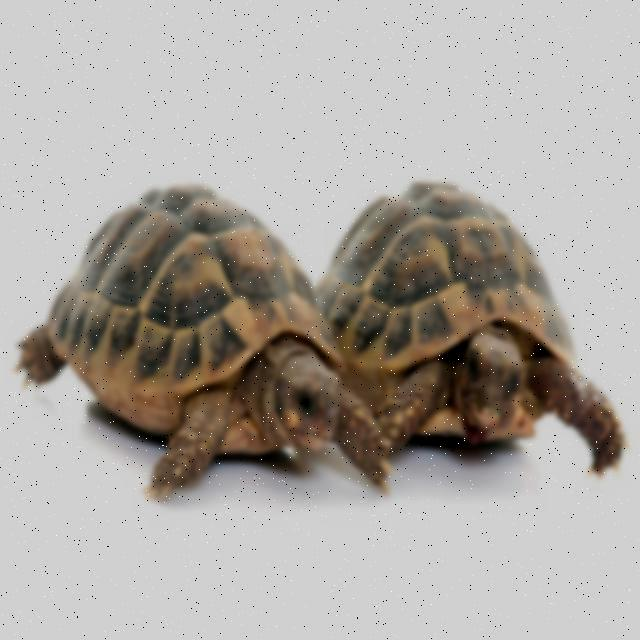tortoise: (24, 185, 382, 508)
